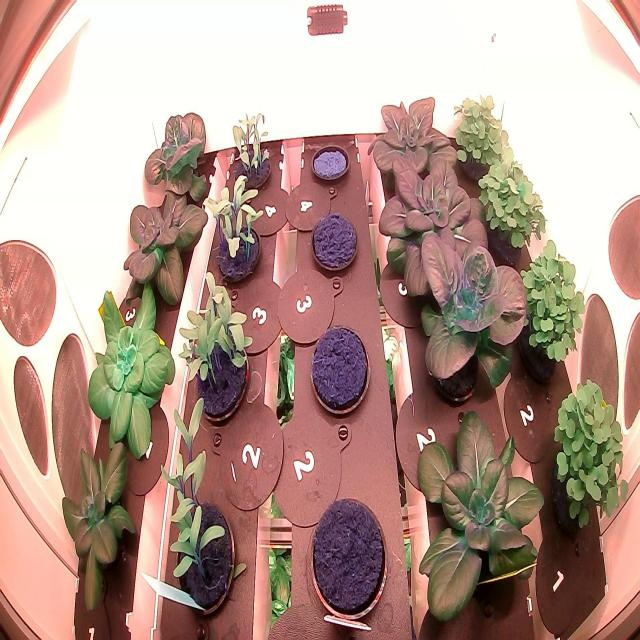pod: (306, 492, 391, 634), (306, 321, 373, 422), (309, 205, 361, 283), (308, 135, 355, 191)
young: (405, 396, 549, 633), (398, 216, 530, 424), (373, 145, 503, 309), (50, 424, 146, 627), (83, 278, 180, 463), (113, 166, 215, 318), (361, 85, 468, 199), (134, 95, 217, 210)
